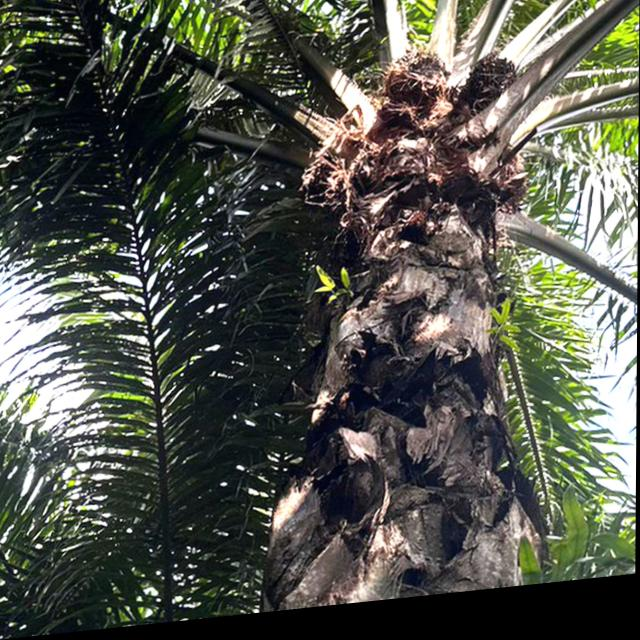unripe: (379, 52, 447, 123), (460, 59, 522, 122)
